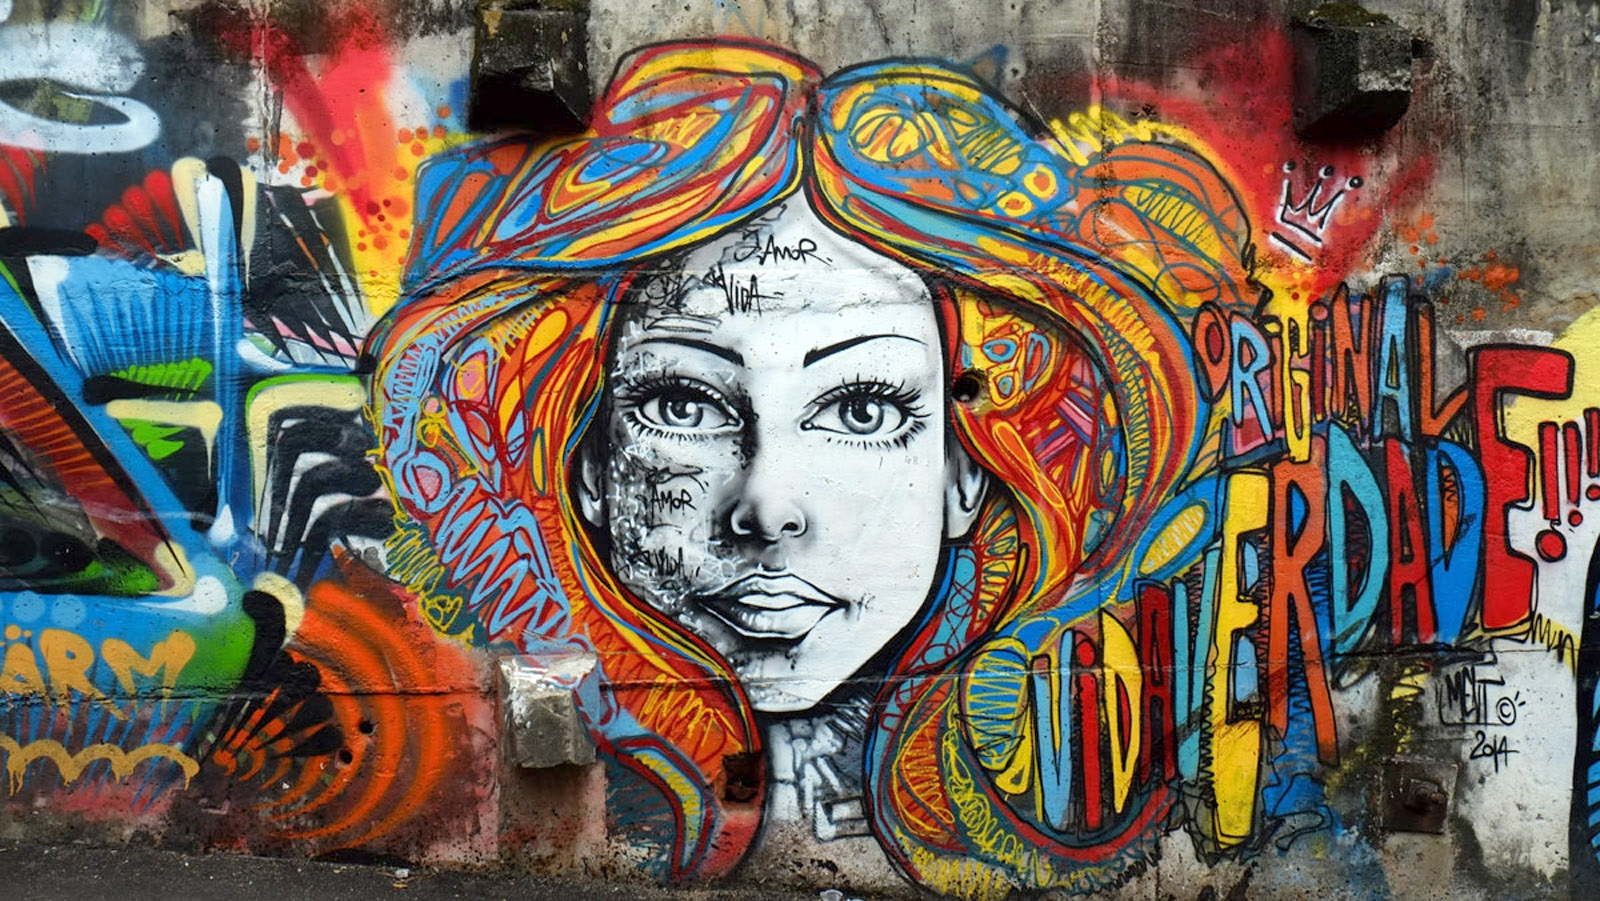graphite: (377, 33, 1142, 811), (1, 10, 376, 839), (1030, 313, 1581, 839)
